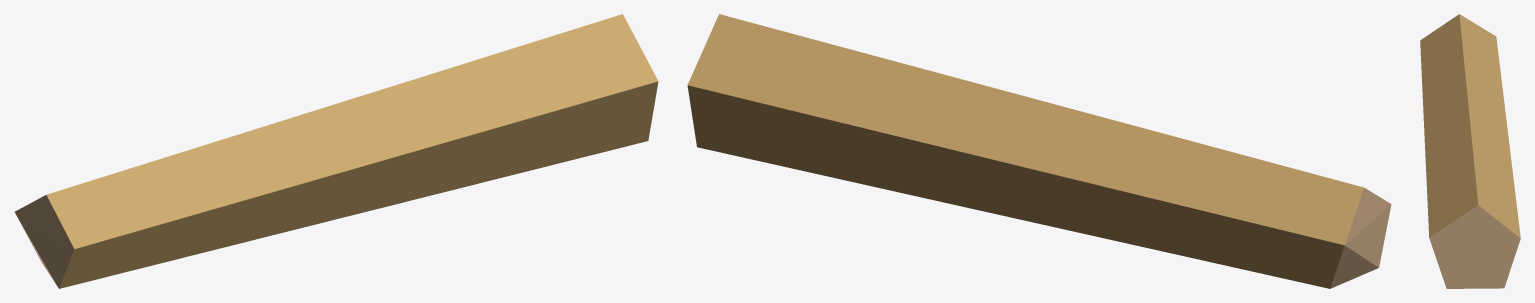
The model's file is Simple_Log_02.fbx.
3 views of the same model, side by side, from view 1: azimuth 30°, elevation 25°; view 2: azimuth 150°, elevation 25°; view 3: azimuth 270°, elevation 25° (orthographic). The views are drawn at different scales.
Parts seen in each view (by area): view 1: Simple_Log_02; view 2: Simple_Log_02; view 3: Simple_Log_02.
Boxes of the visible parts, x1,y1,x2,y2 form: Simple_Log_02: [14, 14, 658, 288]; Simple_Log_02: [687, 14, 1391, 288]; Simple_Log_02: [1420, 14, 1520, 288].
Size of the model in its own units: 125 by 22.33 by 24.71.
